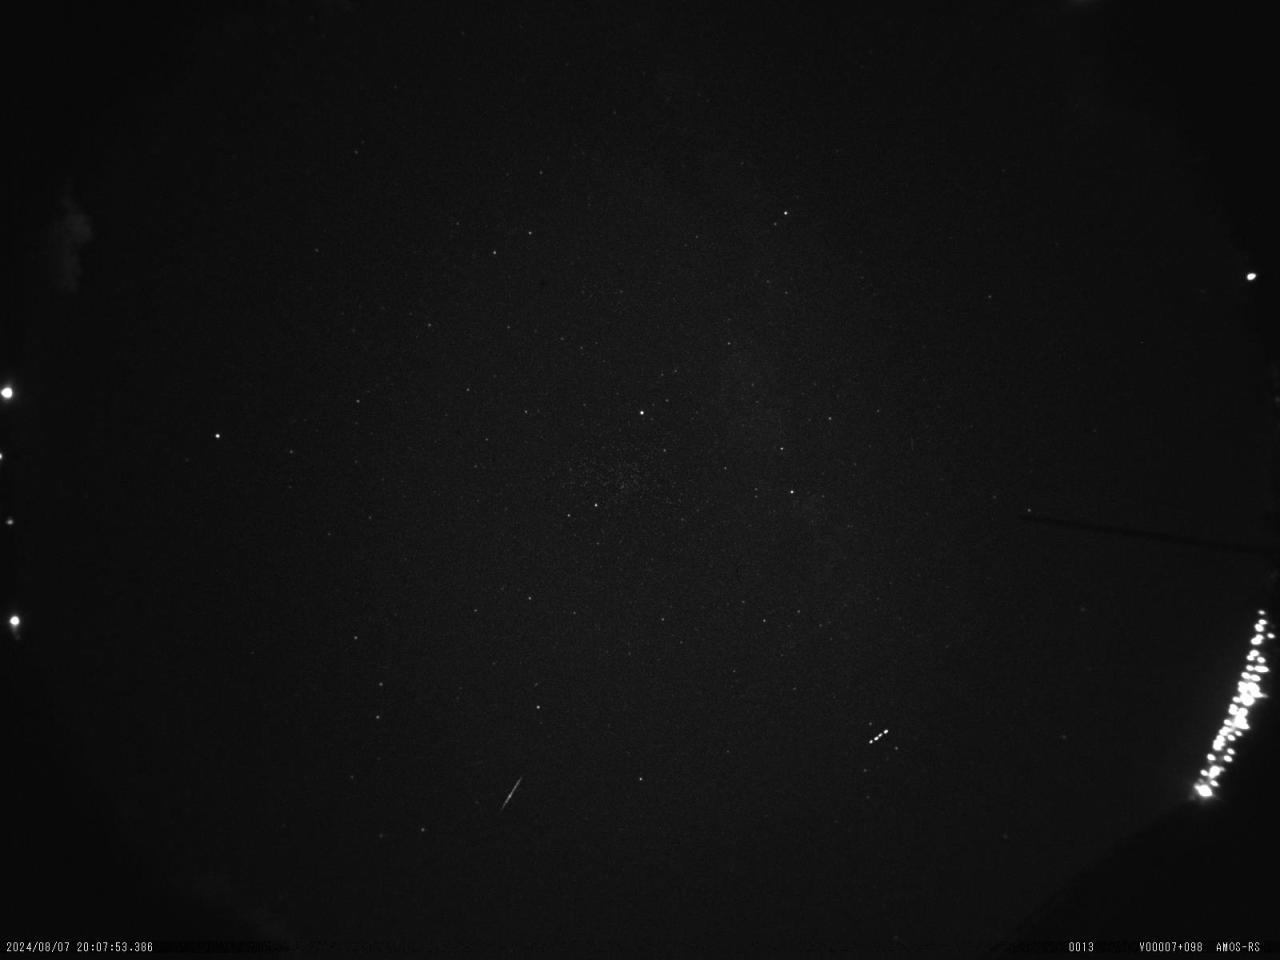Meteor: (498, 774, 524, 810)
